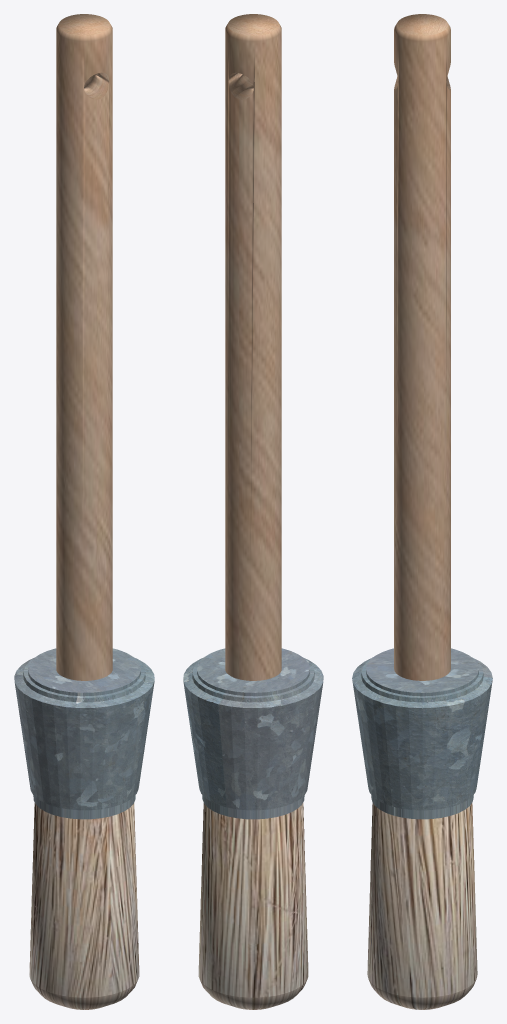
File: Kwast.glb
3 renders of one model, left to right at view 1: azimuth 30°, elevation 25°; view 2: azimuth 150°, elevation 25°; view 3: azimuth 270°, elevation 25°, orthographic.
Parts seen in each view (by area): view 1: Cylinder, Cylinder.002, Cylinder.001; view 2: Cylinder, Cylinder.002, Cylinder.001; view 3: Cylinder, Cylinder.002, Cylinder.001.
Boxes of the visible parts, left/top/right/bottom form: Cylinder: left=56, top=14, right=112, bottom=680; Cylinder.002: left=29, top=803, right=139, bottom=1009; Cylinder.001: left=14, top=648, right=154, bottom=819; Cylinder: left=225, top=14, right=281, bottom=680; Cylinder.002: left=198, top=803, right=308, bottom=1009; Cylinder.001: left=183, top=648, right=323, bottom=819; Cylinder: left=394, top=14, right=450, bottom=680; Cylinder.002: left=367, top=803, right=477, bottom=1009; Cylinder.001: left=352, top=648, right=492, bottom=819.
Size of the model in its own units: 0.5708 by 4.37 by 0.5708.
Materials: 3 (3 with a texture image).
